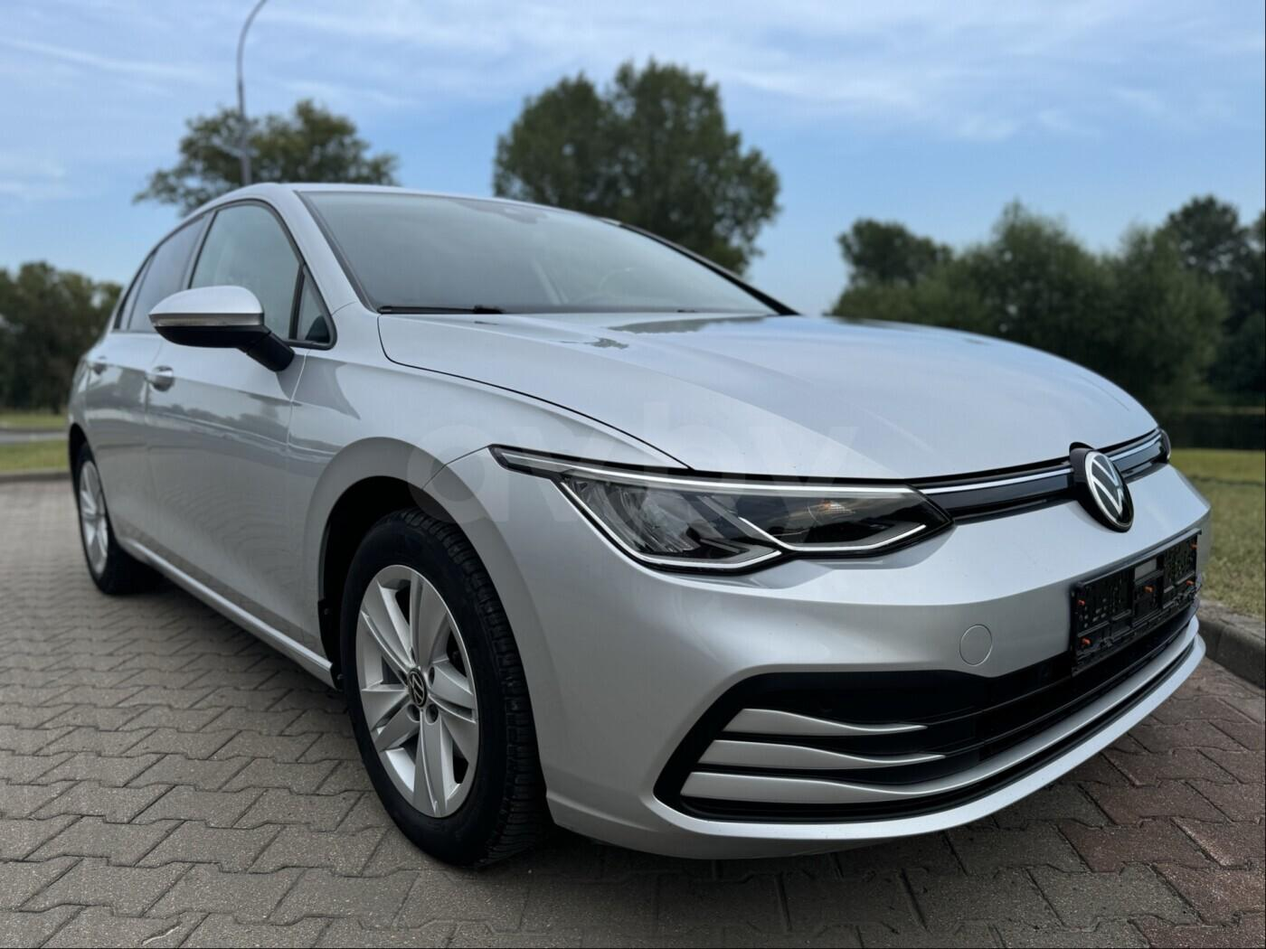Golf_2019: (52, 181, 1212, 890)
